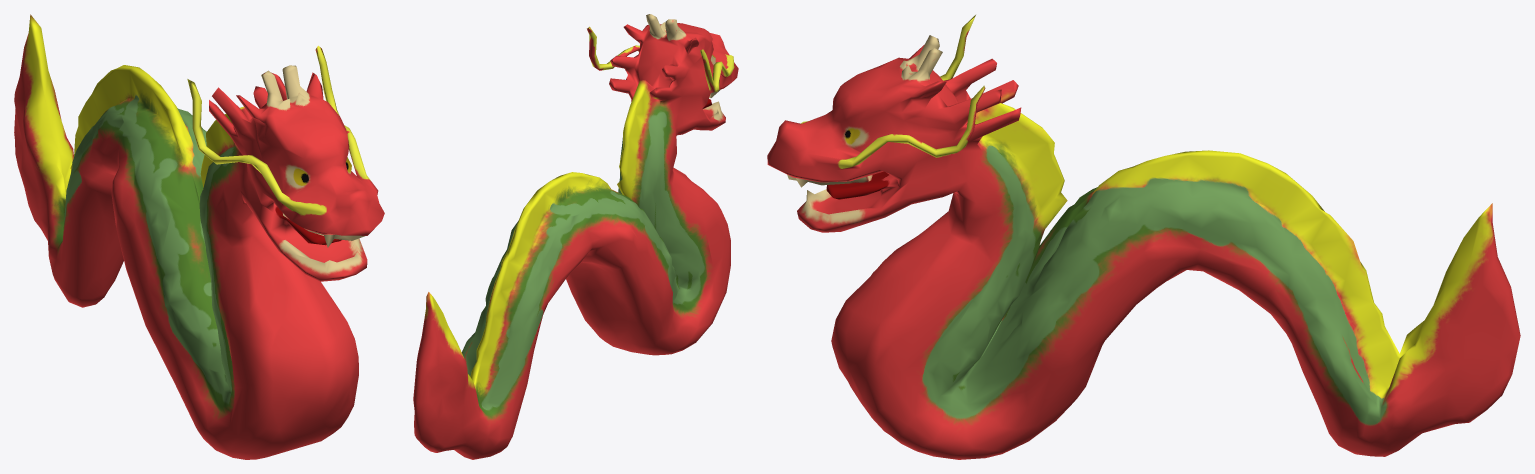
File: dragonfinal.fbx
3 renders of one model, left to right at view 1: azimuth 30°, elevation 25°; view 2: azimuth 150°, elevation 25°; view 3: azimuth 270°, elevation 25°, orthographic. The views are drawn at different scales.
Parts seen in each view (by area): view 1: Group11995; view 2: Group11995; view 3: Group11995.
Boxes of the visible parts, x1,y1,x2,y2 form: Group11995: [14, 14, 384, 459]; Group11995: [413, 14, 738, 459]; Group11995: [767, 15, 1520, 459].
Bounding box in the file's own units: 517 × 1317 × 2212.
Materials: 1 (1 with a texture image).
